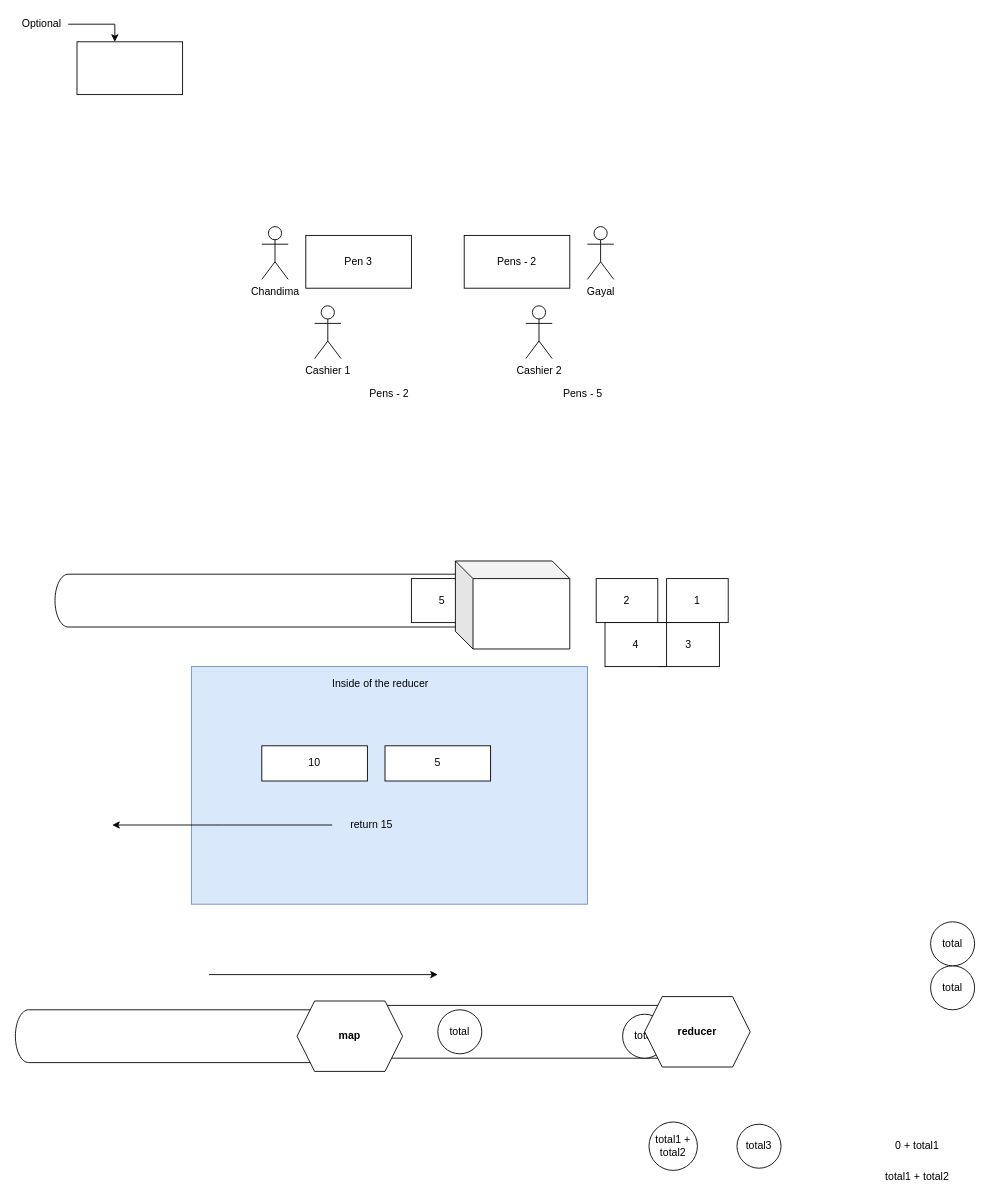
The diagram is 990 pixels wide and 1200 high, and some of its shapes have lost their labels. Each missing label, with the centre of its shape:
newItemCode: (x=129, y=68)
reduce: (x=512, y=604)
